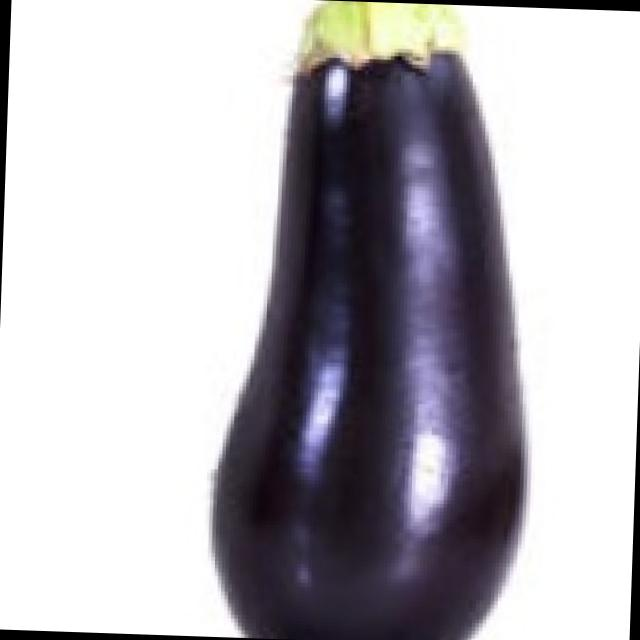eggplant: (208, 19, 549, 640)
